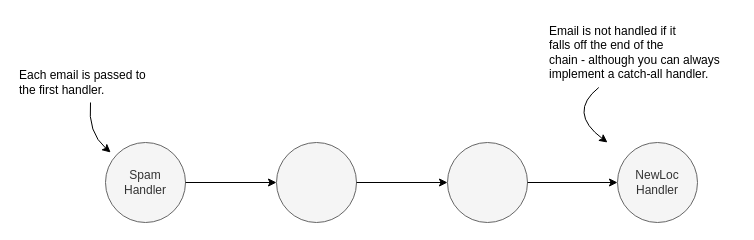
This 754x240 diagram has some shape labels left out. The shapes that lost their labels are listed below. From the top down, each one's box as (x1, y1, x2, y2) in pixels, then its label:
(276, 142, 356, 222): Fan Handler
(446, 142, 528, 222): Complaint Handler
